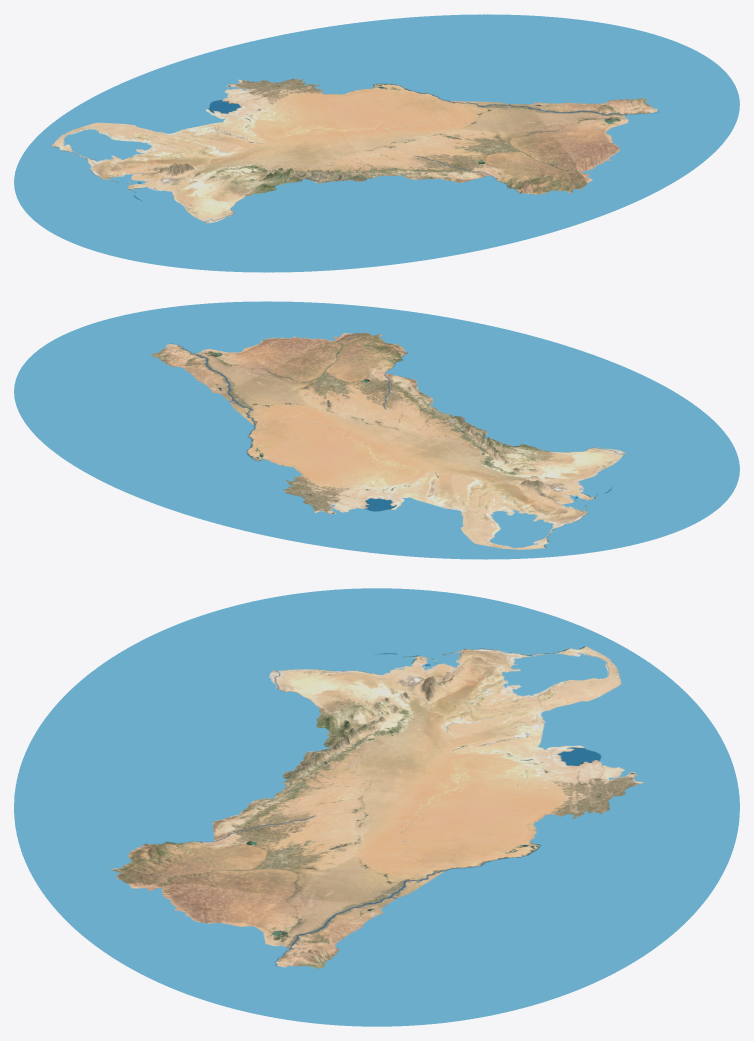
File: TKM-previa-terrain.glb
The picture shows the model from 3 angles, top to bottom: view 1: azimuth 30°, elevation 25°; view 2: azimuth 150°, elevation 25°; view 3: azimuth 270°, elevation 25°; orthographic projection. The views are drawn at different scales.
Parts seen in each view (by area): view 1: Turquemenistão; view 2: Turquemenistão; view 3: Turquemenistão.
Part boxes in pixels (x1=…): Turquemenistão: x1=14, y1=14, x2=739, y2=272; Turquemenistão: x1=14, y1=301, x2=739, y2=559; Turquemenistão: x1=14, y1=588, x2=739, y2=1026.
Size of the model in its own units: 2.36 by 0.0345 by 1.65.
Materials: 1 (1 with a texture image).
